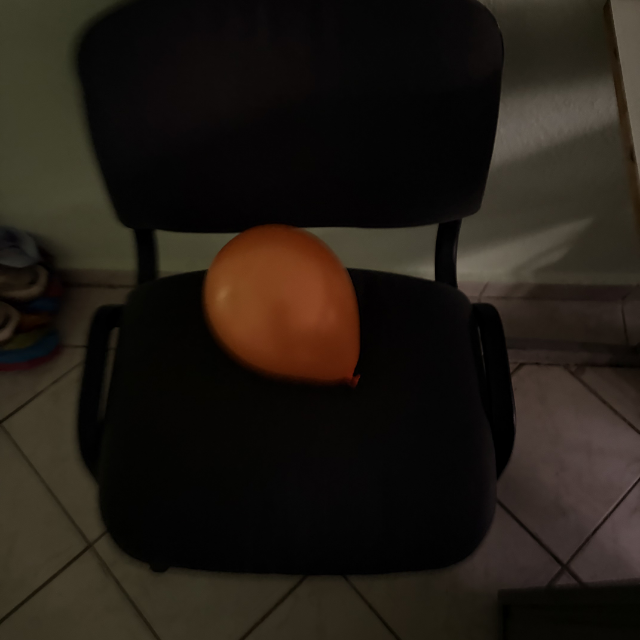balloon: (203, 223, 360, 391)
